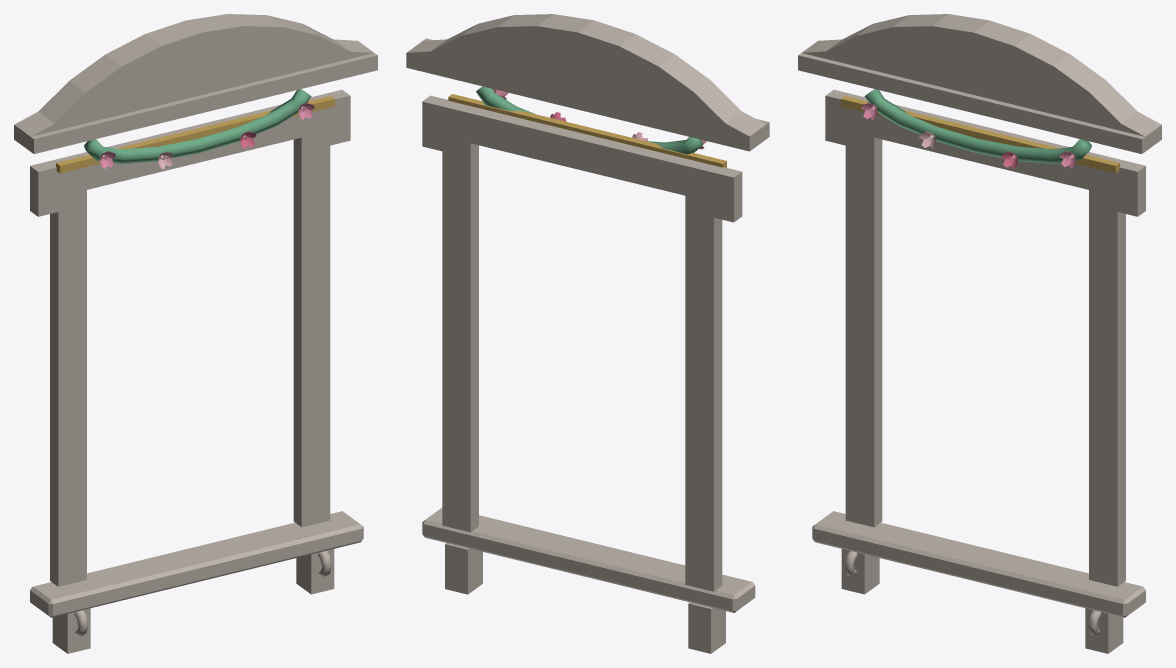
File: facade_surround_segment.glb
The picture shows the model from 3 angles, left to right: view 1: azimuth 30°, elevation 25°; view 2: azimuth 150°, elevation 25°; view 3: azimuth 330°, elevation 25°; orthographic projection.
Visible parts, largest first — view 1: facade_surround_segment; view 2: facade_surround_segment; view 3: facade_surround_segment.
Boxes of the visible parts, x1,y1,x2,y2 form: facade_surround_segment: (14,14,377,653); facade_surround_segment: (406,14,769,653); facade_surround_segment: (798,14,1161,653).
Size of what is drawn, in the model's own units: 2.4 by 3.94 by 0.2601.
